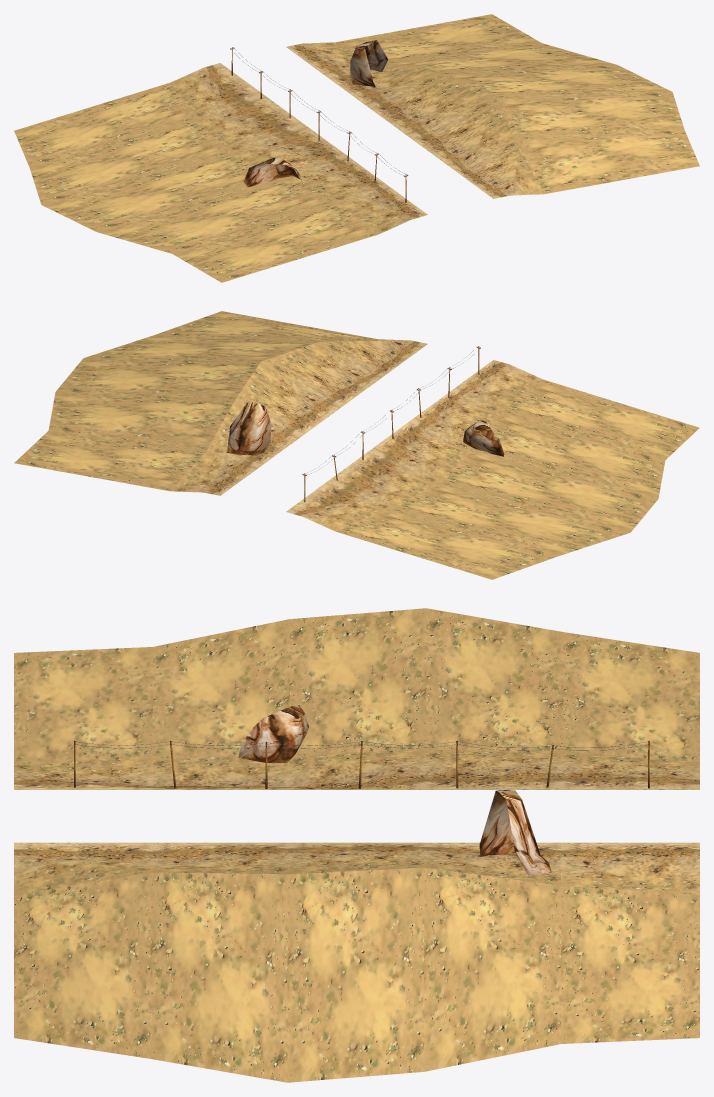
File: us_des_mid_03.fbx
3 views of the same model, one above another, from view 1: azimuth 30°, elevation 25°; view 2: azimuth 150°, elevation 25°; view 3: azimuth 270°, elevation 25° (orthographic). The views are drawn at different scales.
Parts seen in each view (by area): view 1: des_mid_03, des_props_03; view 2: des_mid_03, des_props_03; view 3: des_mid_03, des_props_03.
Part boxes in pixels (x1,y1,x2,y2): des_mid_03: [14, 14, 699, 282]; des_props_03: [230, 47, 408, 202]; des_mid_03: [14, 311, 699, 579]; des_props_03: [302, 346, 480, 502]; des_mid_03: [14, 608, 699, 1082]; des_props_03: [74, 740, 649, 788].
Bounding box in the file's own units: 16370 × 1616 × 10000.
